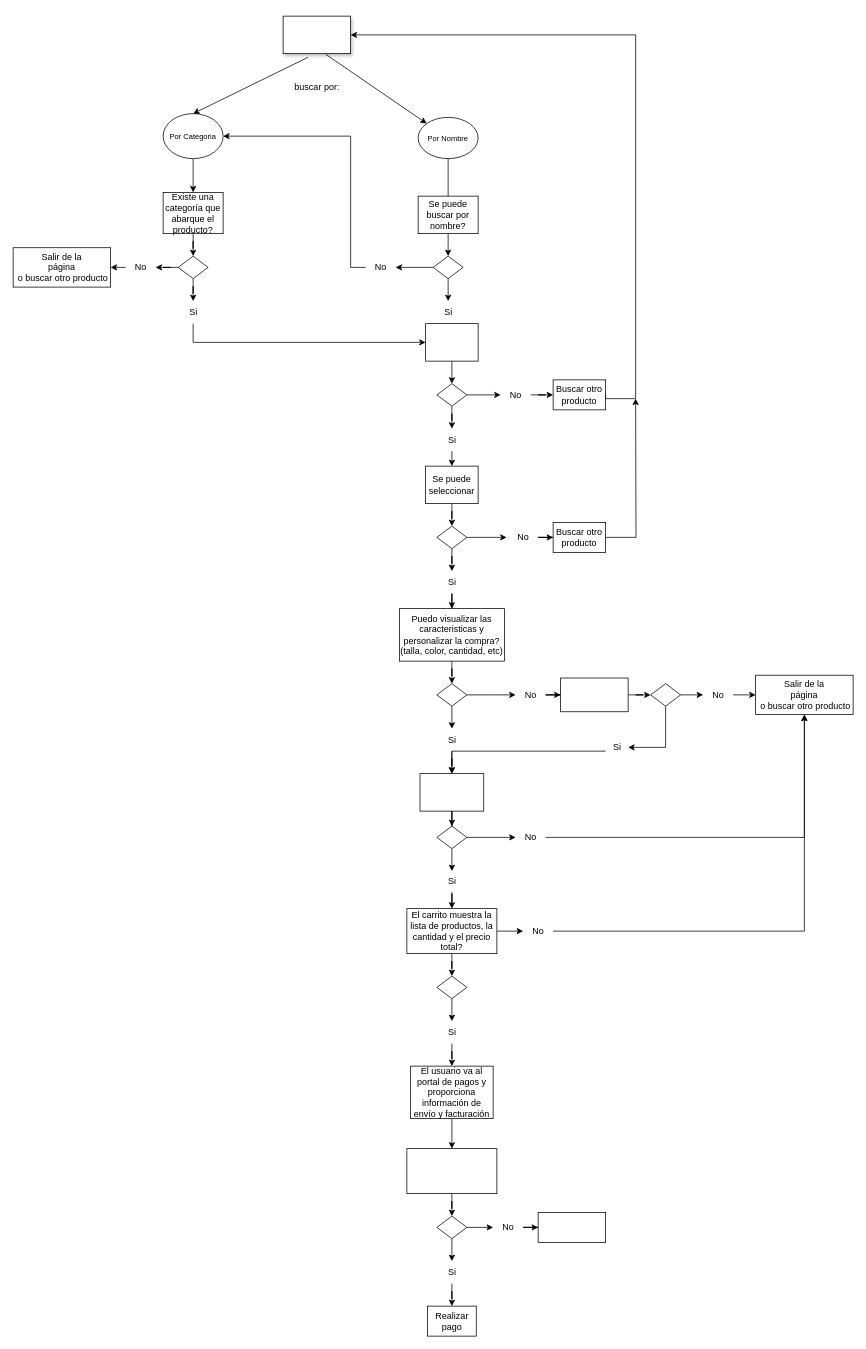
Some shapes in this 866 by 1349 pixel diagram are drawn without their labels. Each missing label, with the centre of its shape:
Existe el producto buscado?: the point at 451,342
Pagar a través de otro metodo: the point at 571,1227
Producto a comprar: the point at 317,35
Quiero comprar el producto sin personalizar?: the point at 594,694
Se puede añadir al carrito?: the point at 451,792
Se puede pagar por tarjeta de crédito o Paypal?: the point at 451,1171
